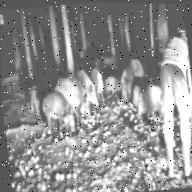boar: (39, 86, 79, 142), (53, 70, 93, 122), (76, 63, 99, 113), (102, 74, 122, 99)
